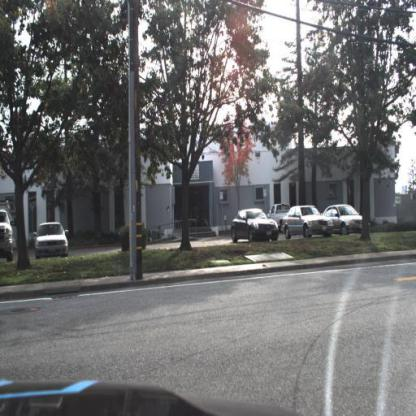car: (282, 203, 333, 240), (35, 221, 74, 261), (233, 210, 278, 243), (325, 204, 369, 233), (1, 204, 13, 263), (269, 201, 287, 225)
